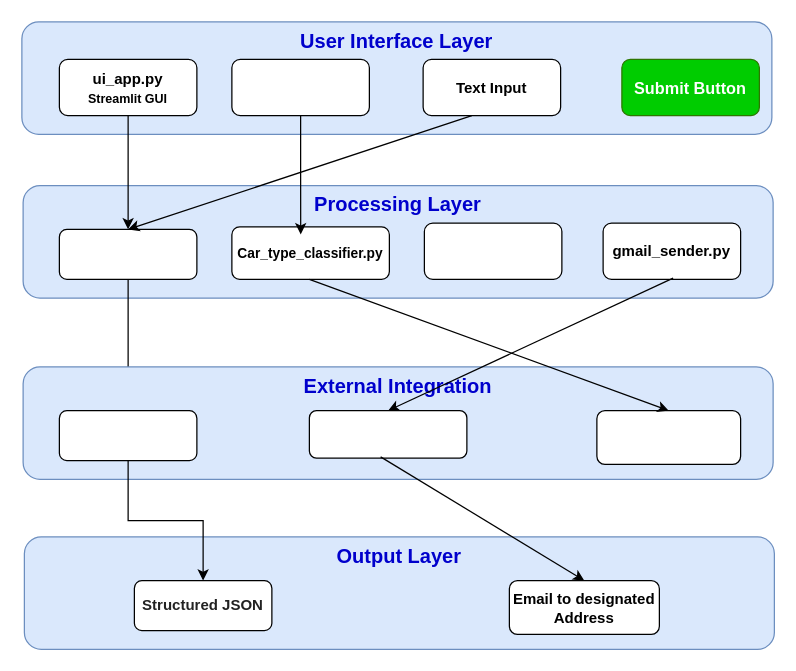
Some shapes in this 796 by 671 pixel diagram are drawn without their labels. Here are the shapes that lost their labels. From the top down, the centre of each, then its label:
pixel 300 87: Image Upload
pixel 127 253: text_extractor.py
pixel 492 250: shema.py
pixel 127 435: GPT-4o mini
pixel 387 433: gmail server
pixel 668 436: Future CV Model
